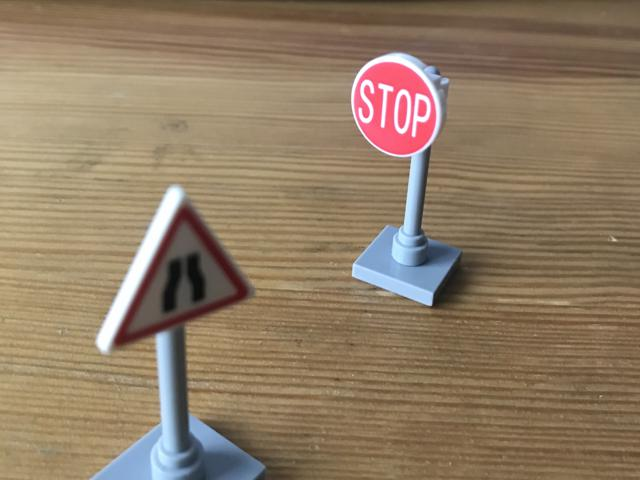stop: (351, 54, 442, 155)
verengte fahrbahn: (97, 186, 259, 355)
